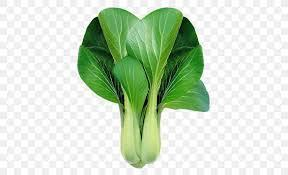Healthy-Pechay: (49, 14, 229, 163)
